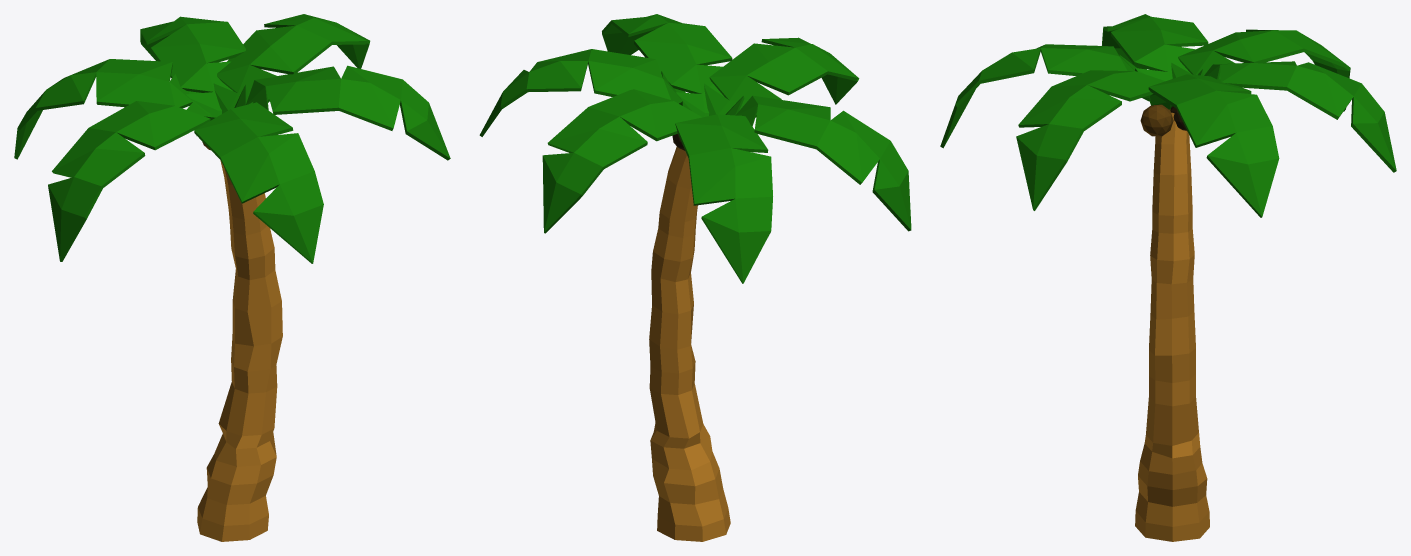
The model's file is palm-tree.fbx.
3 renders of one model, left to right at view 1: azimuth 30°, elevation 25°; view 2: azimuth 150°, elevation 25°; view 3: azimuth 270°, elevation 25°, orthographic. The views are drawn at different scales.
Visible parts, largest first — view 1: Cube, leaf.002, leaf.001, leaf.003, leaf.004, leaf, leaf.005; view 2: Cube, leaf, leaf.005, leaf.001, leaf.002, leaf.003, leaf.004; view 3: Cube, leaf.004, leaf.003, leaf.005, leaf, leaf.001, leaf.002, ball.
Boxes of the visible parts, left/top/right/bottom form: Cube: left=197, top=160, right=282, bottom=541; leaf.002: left=194, top=102, right=323, bottom=263; leaf.001: left=48, top=101, right=215, bottom=261; leaf.003: left=234, top=65, right=450, bottom=160; leaf.004: left=213, top=14, right=370, bottom=113; leaf: left=14, top=59, right=212, bottom=159; leaf.005: left=140, top=16, right=245, bottom=117; Cube: left=649, top=146, right=730, bottom=541; leaf: left=675, top=114, right=772, bottom=283; leaf.005: left=542, top=89, right=702, bottom=233; leaf.001: left=725, top=95, right=911, bottom=231; leaf.002: left=704, top=37, right=859, bottom=117; leaf.003: left=602, top=14, right=732, bottom=117; leaf.004: left=479, top=49, right=692, bottom=136; Cube: left=1135, top=112, right=1209, bottom=541; leaf.004: left=1148, top=74, right=1279, bottom=217; leaf.003: left=1016, top=70, right=1172, bottom=210; leaf.005: left=1198, top=61, right=1396, bottom=172; leaf: left=1171, top=29, right=1350, bottom=111; leaf.001: left=1102, top=14, right=1208, bottom=81; leaf.002: left=940, top=44, right=1136, bottom=148; ball: left=1140, top=104, right=1173, bottom=136.
Bounding box in the file's own units: 1676 × 2020 × 1746.
